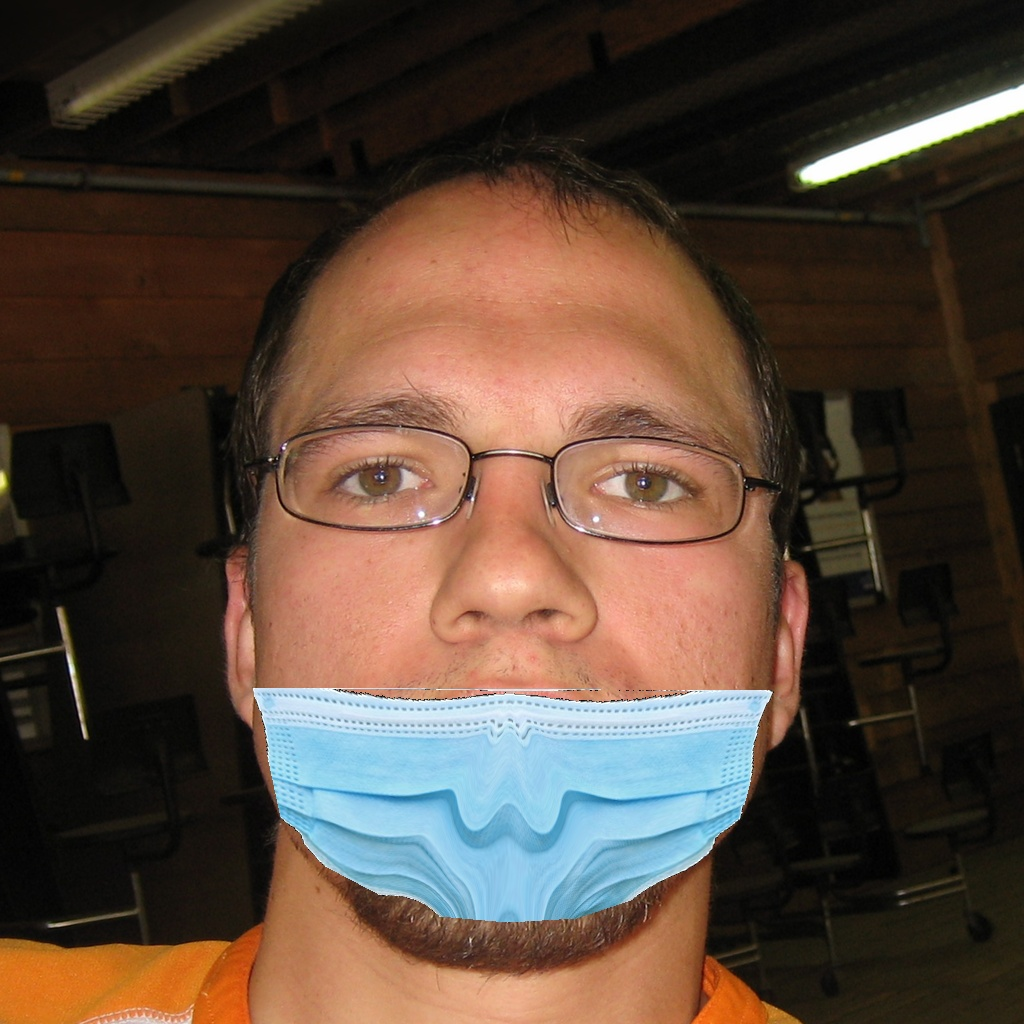mask_weared_incorrect: (234, 374, 786, 956)
